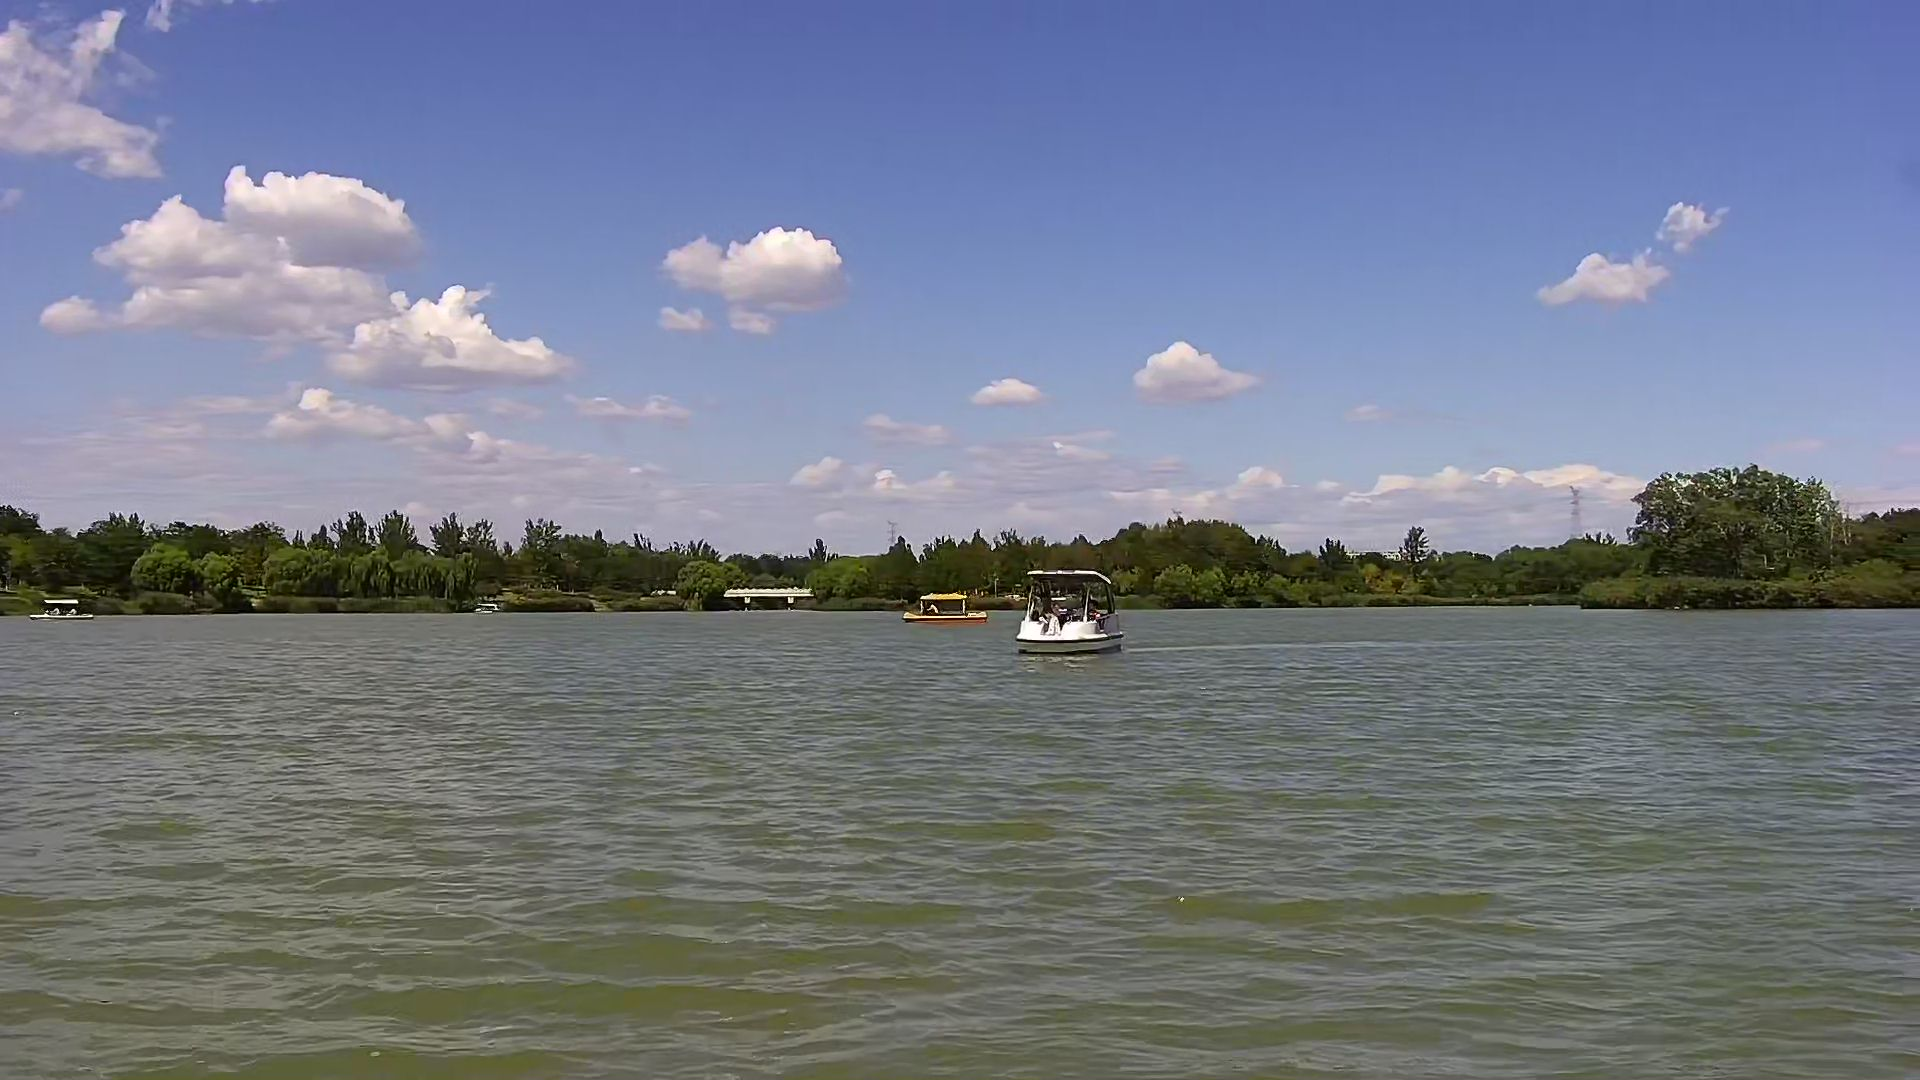boat: (1015, 562, 1125, 658), (895, 584, 988, 628), (24, 593, 94, 622)
bridge: (719, 584, 822, 615)
